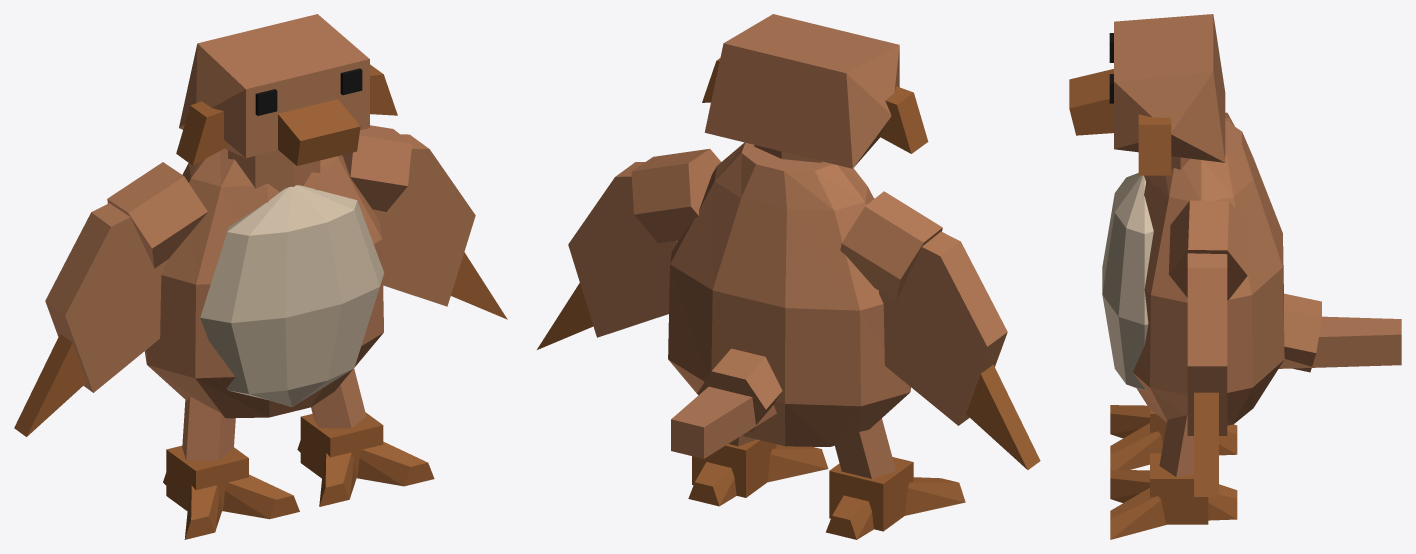
The model's file is emberick.glb.
3 renders of one model, left to right at view 1: azimuth 30°, elevation 25°; view 2: azimuth 150°, elevation 25°; view 3: azimuth 270°, elevation 25°, orthographic. The views are drawn at different scales.
Parts seen in each view (by area): view 1: Emberick; view 2: Emberick; view 3: Emberick.
Boxes of the visible parts, x1,y1,x2,y2 form: Emberick: (14, 14, 507, 539); Emberick: (537, 14, 1040, 539); Emberick: (1069, 14, 1401, 539).
Bounding box in the file's own units: 0.66 × 0.58 × 0.4.
